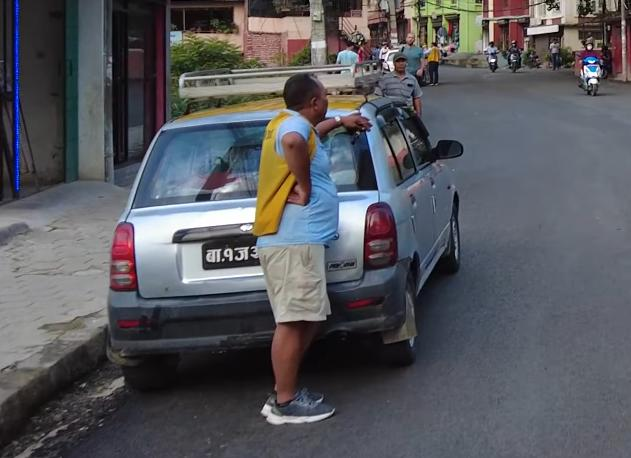scooter: (576, 54, 607, 99)
taxi: (101, 57, 470, 390)
